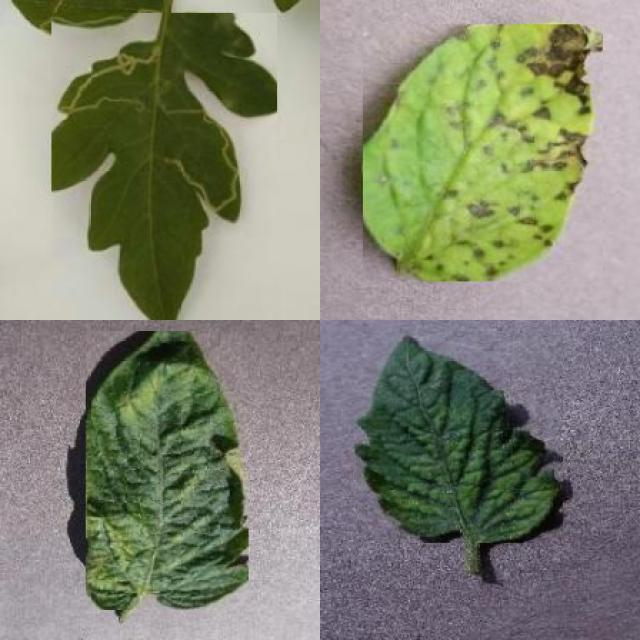Leaf Miner: (52, 13, 277, 320)
Mosaic Virus: (354, 334, 562, 542)
Septoria: (363, 25, 603, 282)
Spider Mites: (85, 330, 248, 610)
